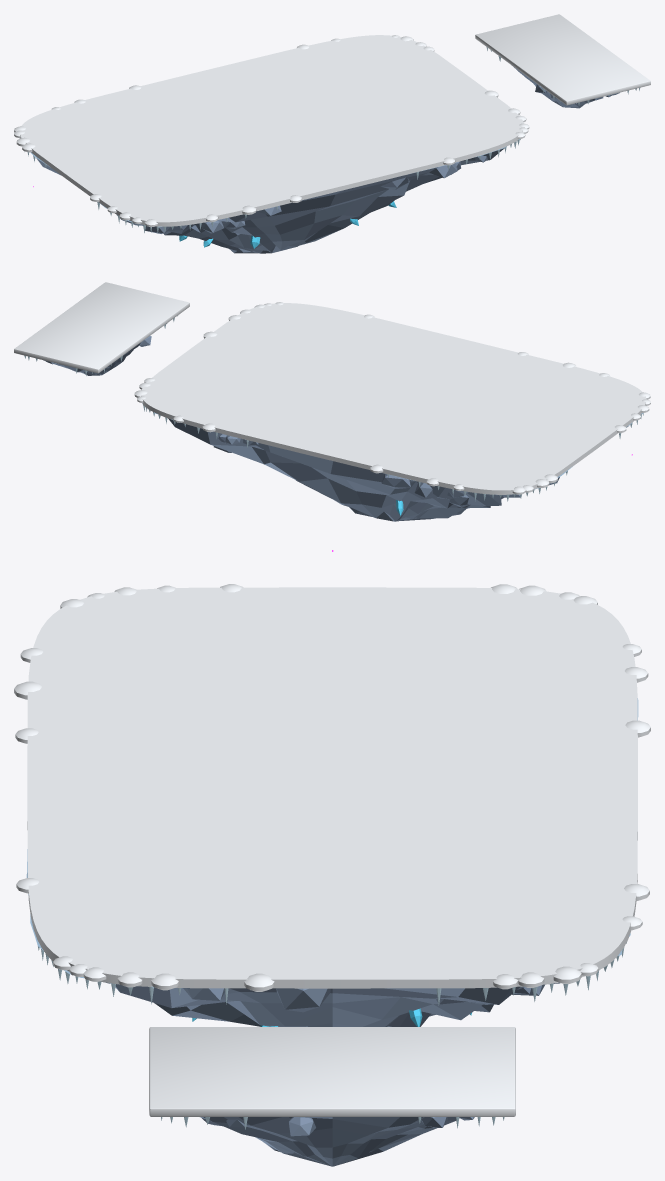
The model's file is Pack_Island.fbx.
3 views of the same model, one above another, from view 1: azimuth 30°, elevation 25°; view 2: azimuth 150°, elevation 25°; view 3: azimuth 270°, elevation 25° (orthographic). The views are drawn at different scales.
Visible parts, largest first — view 1: GarageIsland__Snow__F6FAFFSP, GarageIsland__Rock__7F92ACSP, GarageAnnexSlab__Snow__F6FAFFSP, GarageAnnexSlab__Rock__7F92ACSP, GarageIsland__Icicles__CFEFFFSP; view 2: GarageIsland__Snow__F6FAFFSP, GarageIsland__Rock__7F92ACSP, GarageAnnexSlab__Snow__F6FAFFSP, GarageAnnexSlab__Rock__7F92ACSP; view 3: GarageIsland__Snow__F6FAFFSP, GarageAnnexSlab__Snow__F6FAFFSP, GarageIsland__Rock__7F92ACSP, GarageAnnexSlab__Rock__7F92ACSP.
Part boxes in pixels (x1=…): GarageIsland__Snow__F6FAFFSP: x1=14, y1=35, x2=529, y2=227; GarageIsland__Rock__7F92ACSP: x1=36, y1=148, x2=504, y2=253; GarageAnnexSlab__Snow__F6FAFFSP: x1=475, y1=14, x2=650, y2=105; GarageAnnexSlab__Rock__7F92ACSP: x1=511, y1=65, x2=619, y2=108; GarageIsland__Icicles__CFEFFFSP: x1=24, y1=139, x2=520, y2=233; GarageIsland__Snow__F6FAFFSP: x1=134, y1=302, x2=650, y2=494; GarageIsland__Rock__7F92ACSP: x1=168, y1=418, x2=628, y2=521; GarageAnnexSlab__Snow__F6FAFFSP: x1=14, y1=282, x2=189, y2=373; GarageAnnexSlab__Rock__7F92ACSP: x1=43, y1=323, x2=167, y2=375; GarageIsland__Snow__F6FAFFSP: x1=14, y1=584, x2=650, y2=991; GarageAnnexSlab__Snow__F6FAFFSP: x1=149, y1=1027, x2=515, y2=1116; GarageIsland__Rock__7F92ACSP: x1=72, y1=975, x2=560, y2=1026; GarageAnnexSlab__Rock__7F92ACSP: x1=200, y1=1117, x2=474, y2=1166.
Size of the model in its own units: 216 by 45.4 by 104.
